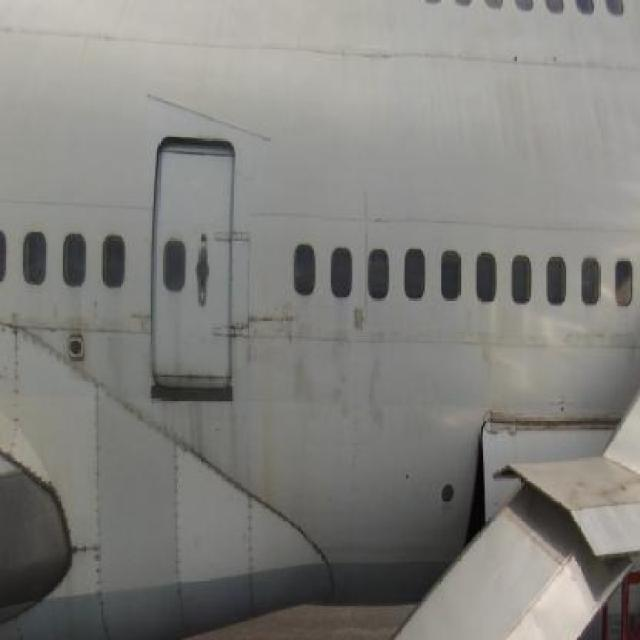Missing-Rivet: (1, 303, 32, 462)
Rust: (254, 369, 286, 518)
Scartch: (344, 300, 379, 365)
